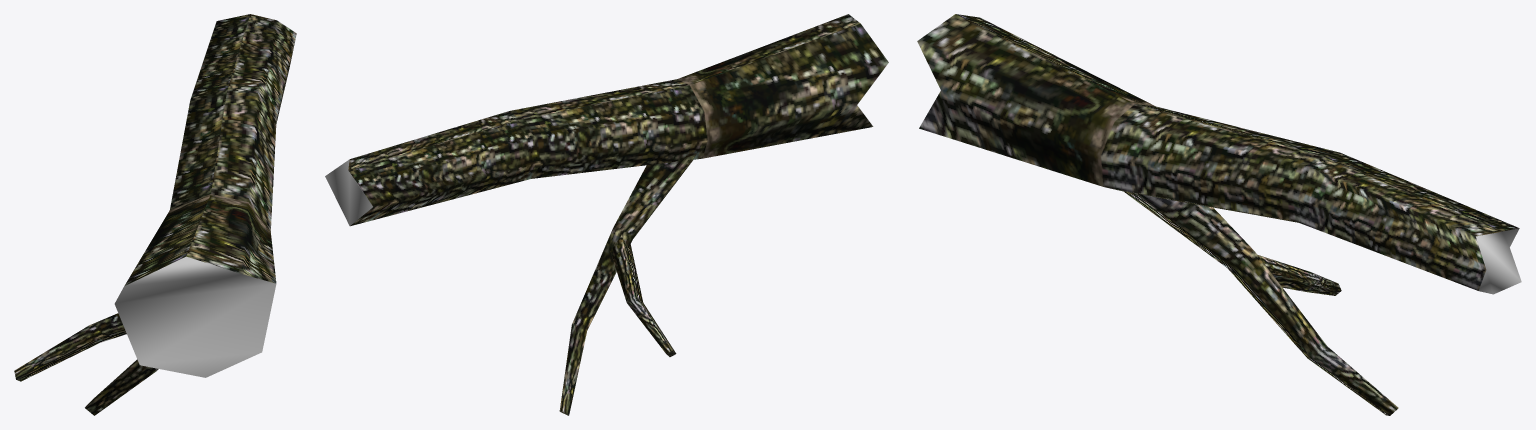
The model's file is OVERHILL_A_01_CYLINDER01.obj.
3 renders of one model, left to right at view 1: azimuth 30°, elevation 25°; view 2: azimuth 150°, elevation 25°; view 3: azimuth 270°, elevation 25°, orthographic. The views are drawn at different scales.
Parts seen in each view (by area): view 1: Cylinder01; view 2: Cylinder01; view 3: Cylinder01.
Boxes of the visible parts, bbox=[...] form: Cylinder01: bbox=[14, 14, 296, 415]; Cylinder01: bbox=[325, 14, 888, 415]; Cylinder01: bbox=[917, 14, 1521, 415].
Size of the model in its own units: 369 by 288 by 467.
